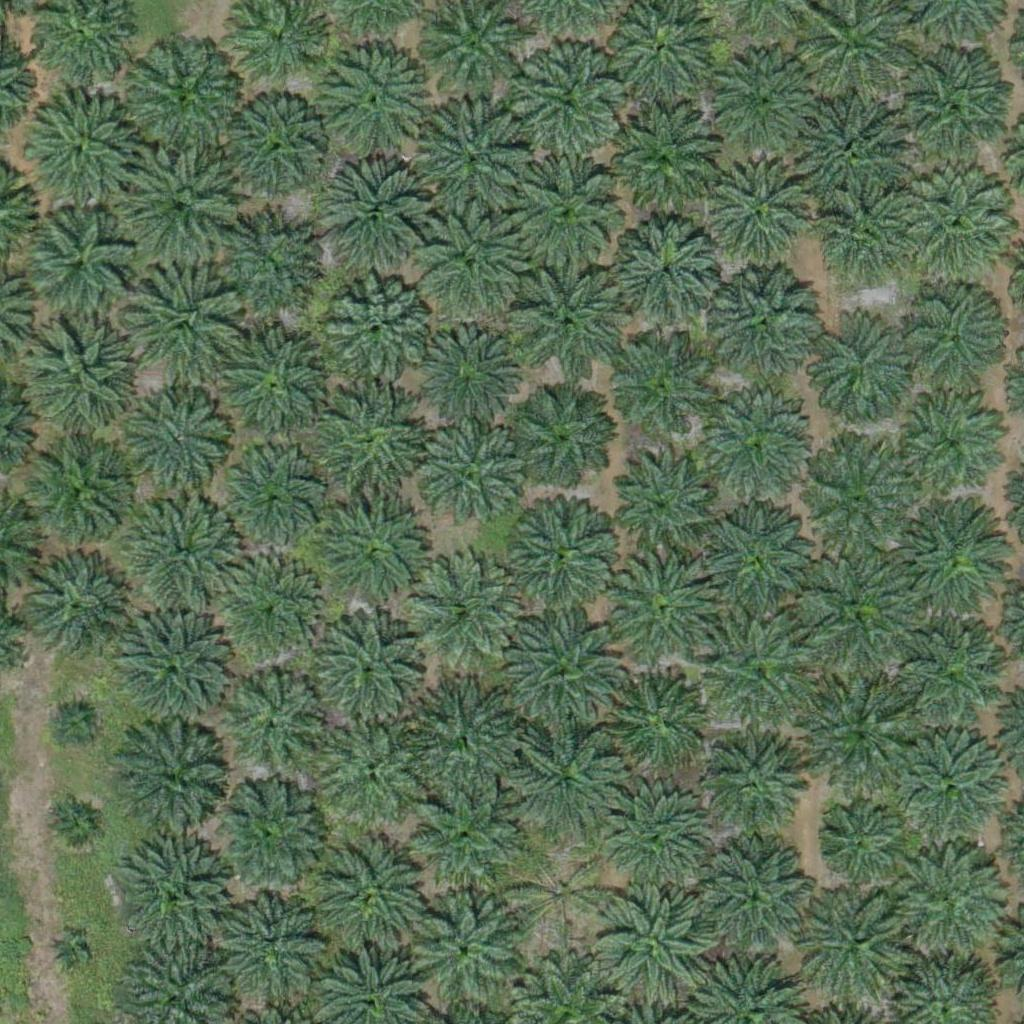Kelapa_Sawit: (889, 166, 1014, 292), (118, 142, 243, 268), (120, 32, 245, 158), (306, 383, 431, 509), (316, 493, 441, 619), (15, 310, 140, 436), (122, 258, 247, 384), (885, 618, 1010, 744), (799, 675, 924, 801), (301, 601, 426, 727), (899, 388, 1012, 502), (803, 310, 916, 424), (892, 501, 1005, 615), (130, 495, 243, 609), (800, 887, 913, 1001), (604, 550, 717, 664), (699, 840, 812, 954), (793, 93, 906, 206), (702, 158, 815, 271), (415, 105, 528, 218), (314, 39, 427, 152), (414, 213, 527, 326), (508, 156, 621, 269), (20, 90, 133, 203), (19, 207, 132, 320), (800, 445, 913, 558), (613, 450, 726, 563), (506, 496, 619, 609), (512, 271, 625, 384), (408, 316, 521, 429), (16, 551, 129, 664), (120, 840, 233, 953), (208, 551, 321, 664), (317, 712, 430, 825), (412, 897, 525, 1010), (408, 780, 521, 893), (402, 682, 515, 795), (702, 610, 815, 723), (315, 161, 427, 275), (897, 277, 1009, 391), (709, 265, 821, 379), (22, 439, 134, 553), (408, 551, 520, 665), (508, 611, 620, 725), (603, 788, 715, 902), (897, 44, 1009, 157), (609, 108, 721, 221), (514, 43, 626, 156), (612, 221, 724, 334), (604, 338, 716, 451), (700, 399, 812, 512), (704, 501, 816, 614), (417, 425, 529, 538), (323, 274, 435, 387), (218, 328, 330, 441), (893, 733, 1005, 846), (892, 844, 1004, 957), (801, 555, 913, 668), (118, 617, 230, 730), (118, 729, 230, 842), (215, 778, 327, 891), (222, 663, 334, 776), (320, 836, 432, 949), (510, 723, 622, 836), (596, 885, 708, 998), (511, 845, 611, 946), (713, 49, 813, 150), (514, 388, 614, 489), (221, 456, 321, 557), (133, 396, 233, 497), (227, 895, 327, 996), (224, 97, 324, 197), (209, 220, 309, 320), (606, 672, 706, 772), (705, 730, 805, 830), (819, 806, 894, 882), (822, 197, 897, 272), (50, 698, 100, 748), (51, 801, 101, 851), (50, 933, 88, 971)
